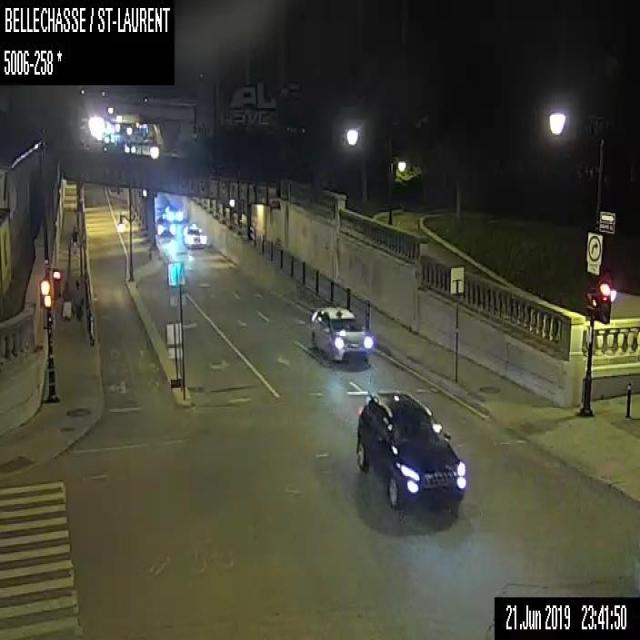pedestrian: (72, 278, 84, 319), (60, 278, 72, 318), (71, 224, 77, 253)
vehicle: (356, 391, 465, 512), (311, 306, 371, 361), (183, 222, 206, 247), (155, 217, 173, 236), (163, 204, 182, 221)
